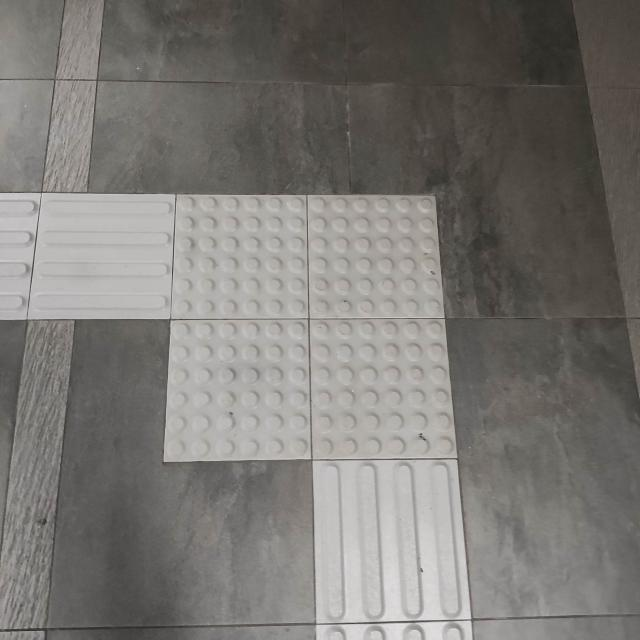kiri: (0, 104, 543, 561)
